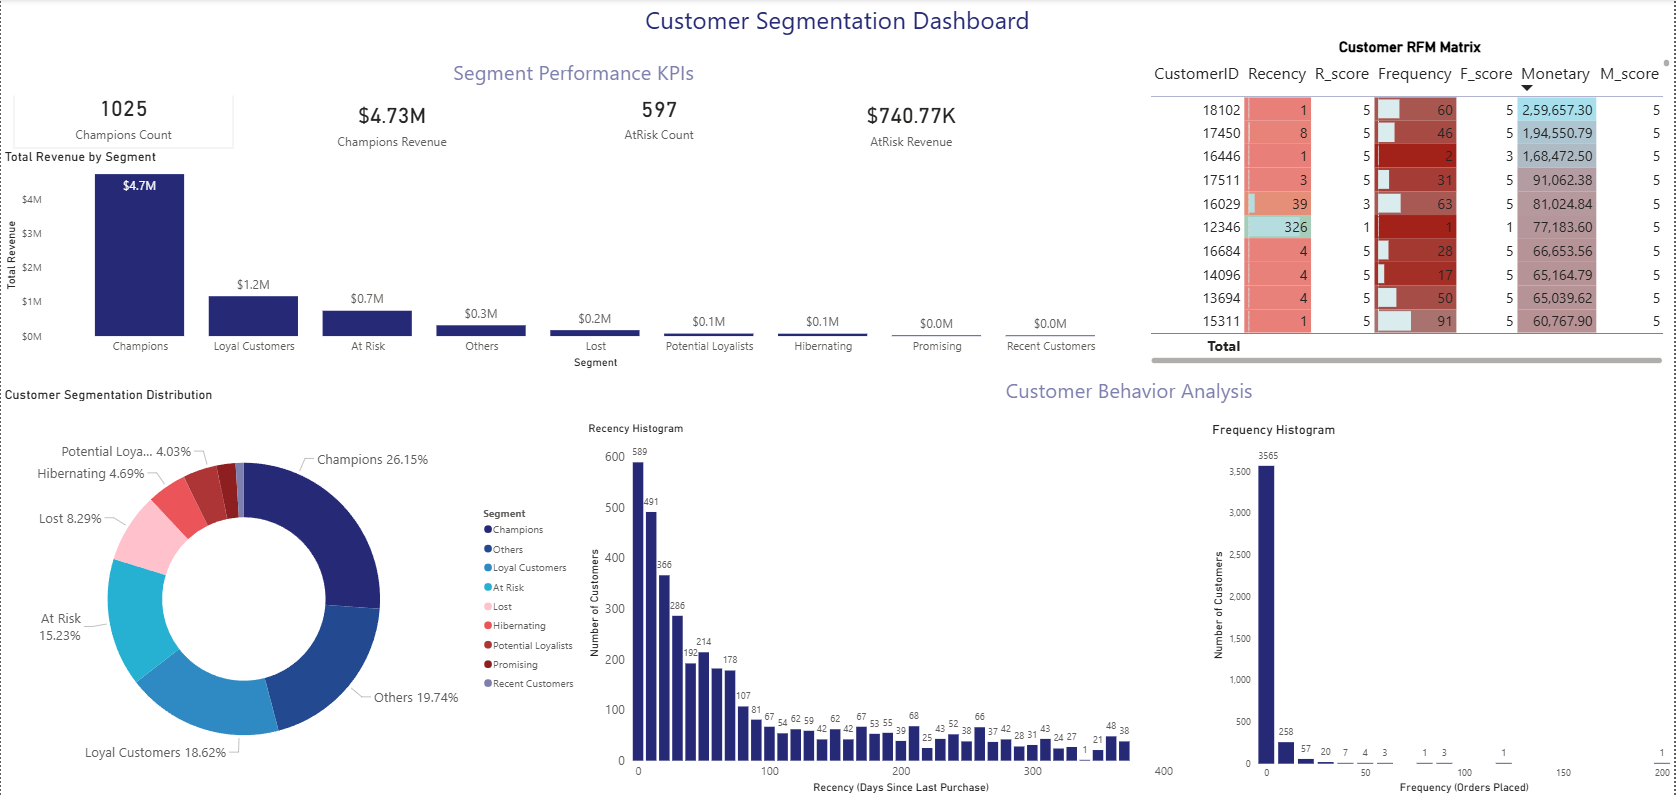

What the dashboard file says about the page in this screenshot:
{"tool":"powerbi","page":{"name":"Customer Segmentation Dashboard","canvas":[2200,1050],"ordinal":1},"visuals":[{"type":"donutChart","title":"Customer Segmentation Distribution","fields":{"Y":["rfm_Final.CustID"],"Category":["rfm_Final.Segment"]},"box":[0,510,768,540],"z":0},{"type":"card","fields":{"Values":["rfm_Final.Champions Count"]},"box":[16,108,290,90],"z":1000},{"type":"card","title":"Revenue by Champions","fields":{"Values":["rfm_Final.Champions Revenue"]},"box":[384,110,260,104],"z":2000},{"type":"card","fields":{"Values":["rfm_Final.AtRisk Count"]},"box":[754,110,222,88],"z":3000},{"type":"card","fields":{"Values":["rfm_Final.AtRisk Revenue"]},"box":[1060,126,274,72],"z":4000},{"type":"columnChart","fields":{"Category":["rfm_Final.Segment"],"Y":["cleaned_data.Total Revenue"]},"box":[0,198,1506,294],"z":5000},{"type":"tableEx","title":"Customer RFM Matrix","fields":{"Values":["rfm_Final.CustomerID","rfm_Final.Recency","rfm_Final.R_score","rfm_Final.Frequency","rfm_Final.F_score","rfm_Final.Monetary","rfm_Final.M_score"]},"box":[1506,52,694,432],"z":6000},{"type":"columnChart","title":"Recency Histogram","fields":{"Y":["CountNonNull(rfm_Final.CustomerID)"],"Category":["rfm_Final.Recency (bins)"]},"box":[768,556,780,494],"z":7000},{"type":"clusteredColumnChart","title":"Frequency Histogram","fields":{"Y":["CountNonNull(rfm_Final.CustomerID)"],"Category":["rfm_Final.Frequency (bins)"]},"box":[1588,556,612,494],"z":8000},{"type":"textbox","box":[0,0,2200,52],"z":9000},{"type":"textbox","box":[0,72,1506,54],"z":10000},{"type":"textbox","box":[768,492,1432,50],"z":11000}]}

Visuals, with their boxes in screenshot pixels (x1, y1, x2, y2), scaled from the page's 2200x1050 canvas onto the 1676x797 screenshot:
"Customer Segmentation Distribution" donutChart: 0,387,585,796
card - rfm_Final.Champions Count: 12,82,233,150
"Revenue by Champions" card: 293,83,491,162
card - rfm_Final.AtRisk Count: 574,83,744,150
card - rfm_Final.AtRisk Revenue: 808,96,1016,150
columnChart - rfm_Final.Segment x cleaned_data.Total Revenue: 0,150,1147,373
"Customer RFM Matrix" tableEx: 1147,39,1675,367
"Recency Histogram" columnChart: 585,422,1179,796
"Frequency Histogram" clusteredColumnChart: 1210,422,1675,796
textbox: 0,0,1675,39
textbox: 0,55,1147,96
textbox: 585,373,1675,411
